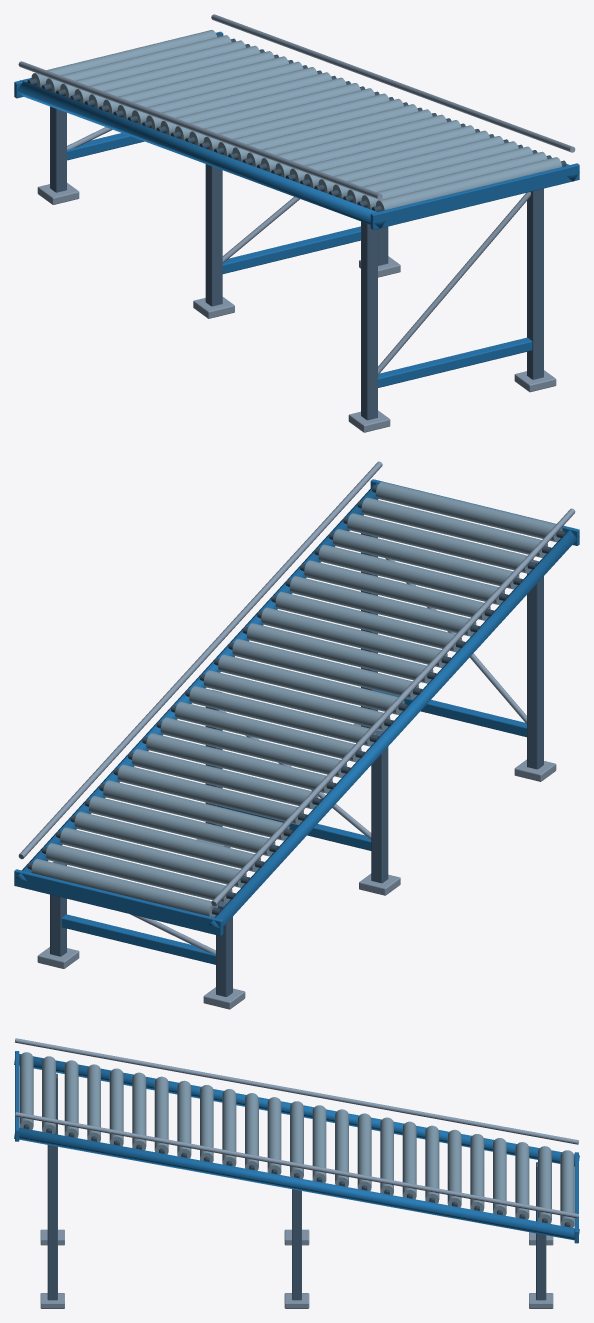
The model's file is SM_VR_Conveyor.fbx.
The picture shows the model from 3 angles, top to bottom: view 1: azimuth 30°, elevation 25°; view 2: azimuth 150°, elevation 25°; view 3: azimuth 270°, elevation 25°; orthographic projection. The views are drawn at different scales.
Parts seen in each view (by area): view 1: SM_VR_Conveyor; view 2: SM_VR_Conveyor; view 3: SM_VR_Conveyor.
Part boxes in pixels (x1,y1,x2,y2): SM_VR_Conveyor: (14,14,579,432); SM_VR_Conveyor: (14,461,579,1009); SM_VR_Conveyor: (14,1038,579,1308).
Bounding box in the file's own units: 100 × 301 × 116.
